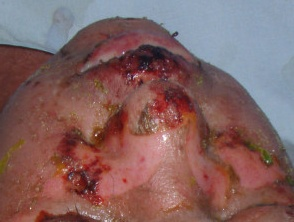SJS-TEN: (3, 32, 294, 222)
